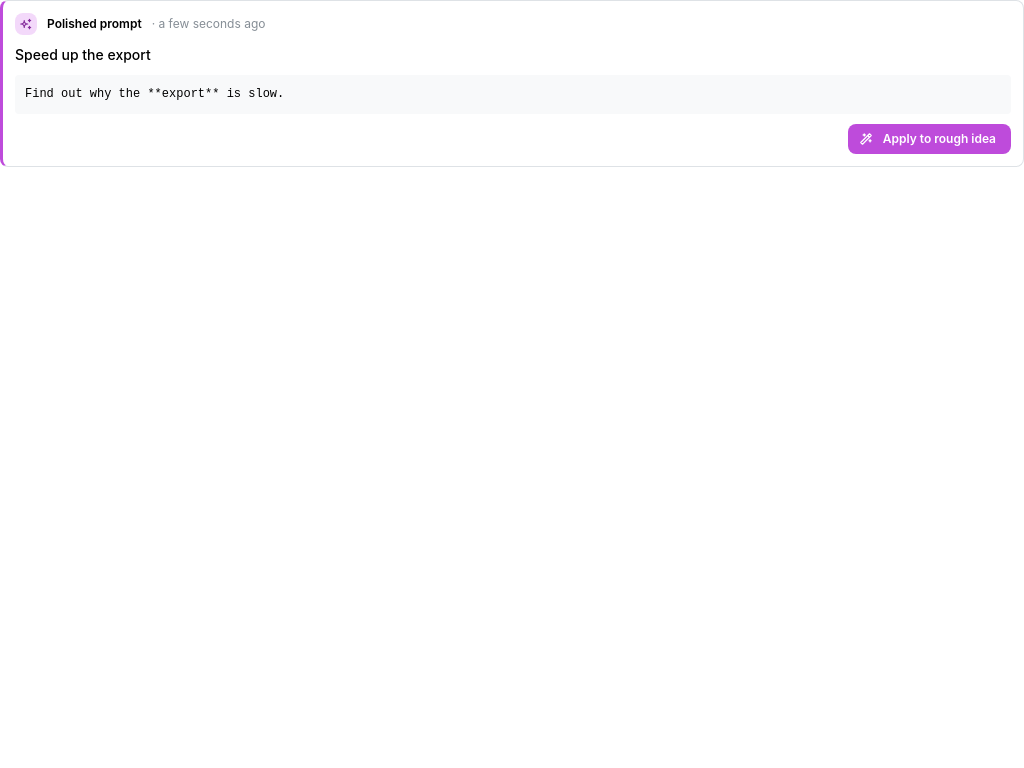
Scenario: PolishItem › shows the whole new title and prompt and applies nothing until the user confirms
Later steps or results of the test are not shown.
Click the button "Apply to rough idea".
click(930, 139)  # box [848,124,1011,154]
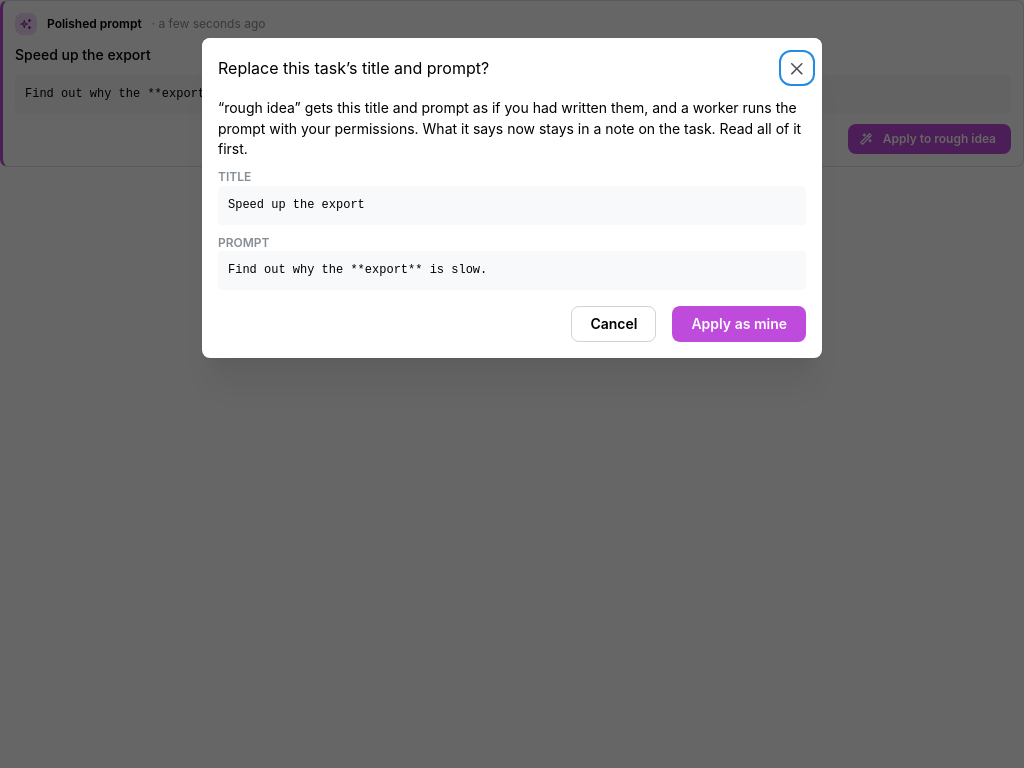
expect the text with test id "polish-title" reads "Speed up the export": met, box [228,198,365,212]
expect the text with test id "polish-prompt" reads "Find out why the **export** is slow.": met, box [228,264,487,278]
